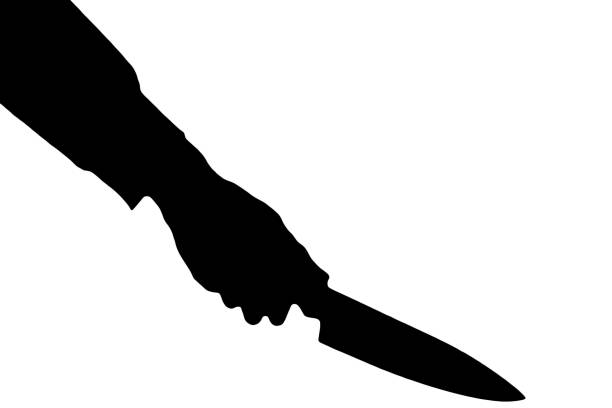k1: (265, 242, 534, 408)
